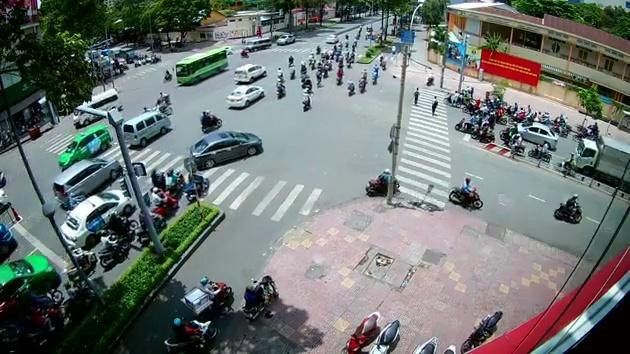xe buyt: (175, 47, 228, 87)
xe hoi: (59, 189, 135, 248), (50, 156, 121, 208), (188, 129, 263, 172), (0, 253, 56, 303), (56, 123, 110, 166), (514, 120, 557, 149), (226, 83, 264, 109), (233, 63, 267, 83)
xe may: (162, 316, 217, 354), (185, 275, 233, 317), (240, 273, 278, 319), (96, 228, 130, 267), (62, 243, 96, 281), (448, 176, 481, 210), (363, 168, 400, 197), (148, 185, 178, 218), (553, 191, 582, 224), (104, 209, 138, 235), (452, 108, 478, 135), (526, 139, 550, 163), (199, 109, 222, 134), (501, 132, 526, 154), (442, 89, 460, 108), (274, 77, 286, 98)
xe tai: (571, 135, 621, 186)
xe van: (72, 87, 120, 127), (121, 110, 171, 147)
